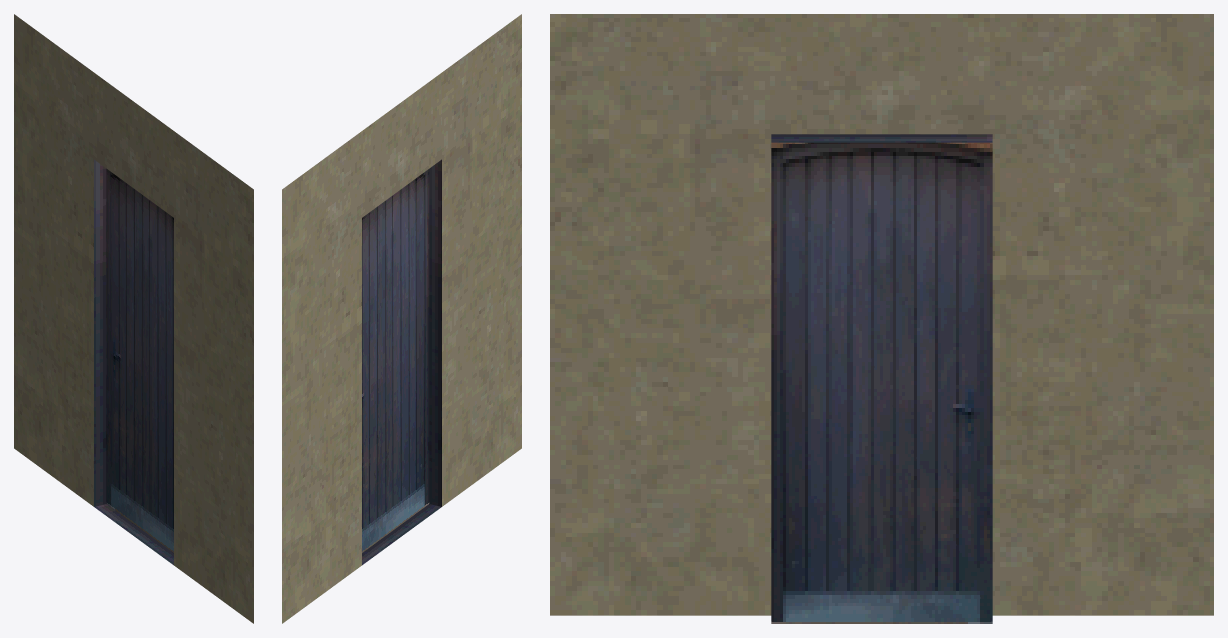
The model's file is stuco_wall_door_indent.glb.
The picture shows the model from 3 angles, left to right: view 1: azimuth 30°, elevation 25°; view 2: azimuth 150°, elevation 25°; view 3: azimuth 270°, elevation 25°; orthographic projection. The views are drawn at different scales.
Parts seen in each view (by area): view 1: stuco_wall_door_indent; view 2: stuco_wall_door_indent; view 3: stuco_wall_door_indent.
Part boxes in pixels (x1,y1,x2,y2): stuco_wall_door_indent: (14, 14, 253, 623); stuco_wall_door_indent: (282, 14, 521, 623); stuco_wall_door_indent: (550, 14, 1213, 623).
Size of the model in its own units: 0.0907 by 3 by 3.
Materials: 1 (1 with a texture image).
